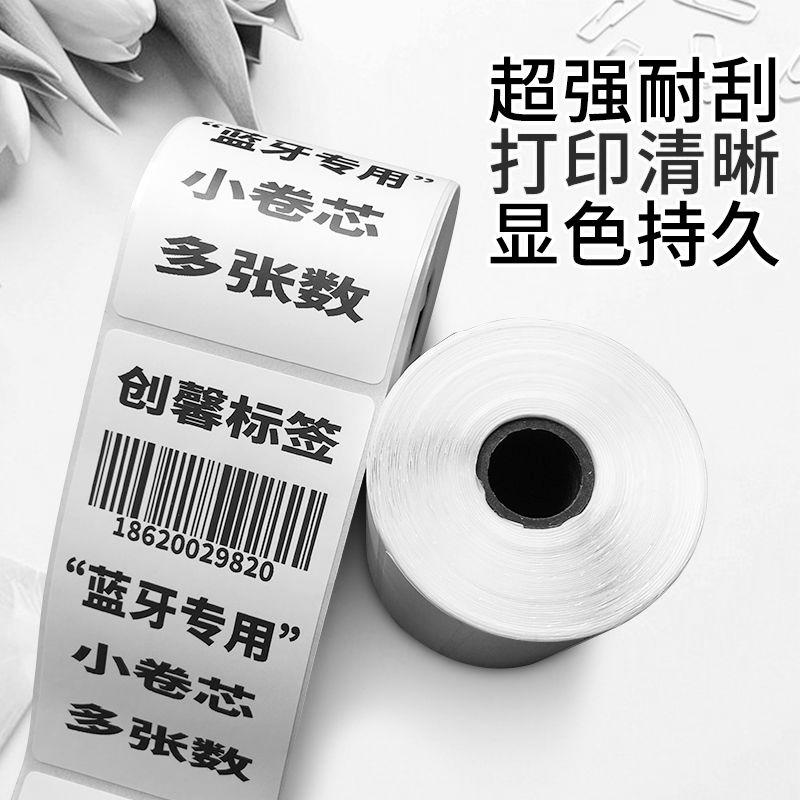Barcode: (81, 413, 337, 591)
